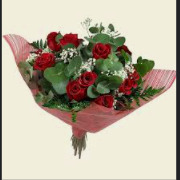RedRose: (31, 46, 52, 73), (44, 25, 61, 52), (61, 30, 82, 51), (63, 79, 82, 101), (91, 40, 110, 61), (81, 68, 101, 86), (118, 75, 135, 96), (98, 91, 116, 109)
